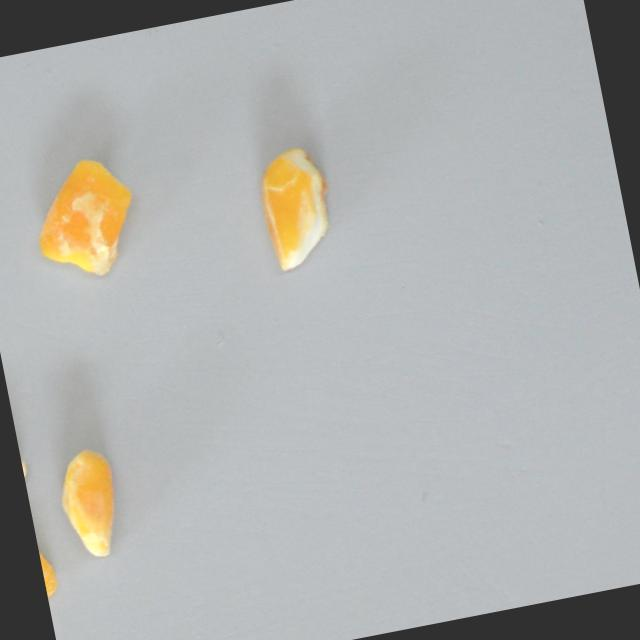pelicula: (20, 147, 150, 294), (246, 138, 342, 279), (43, 442, 133, 568), (32, 511, 65, 606)
